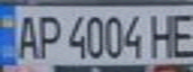0: (103, 11, 127, 60), (84, 11, 106, 60)
4: (63, 10, 87, 60), (124, 10, 148, 60)
A: (9, 10, 42, 61)
E: (166, 8, 193, 59)
H: (145, 9, 178, 60)
P: (33, 11, 63, 60)
